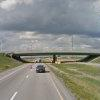Bridge: (13, 45, 98, 61)
